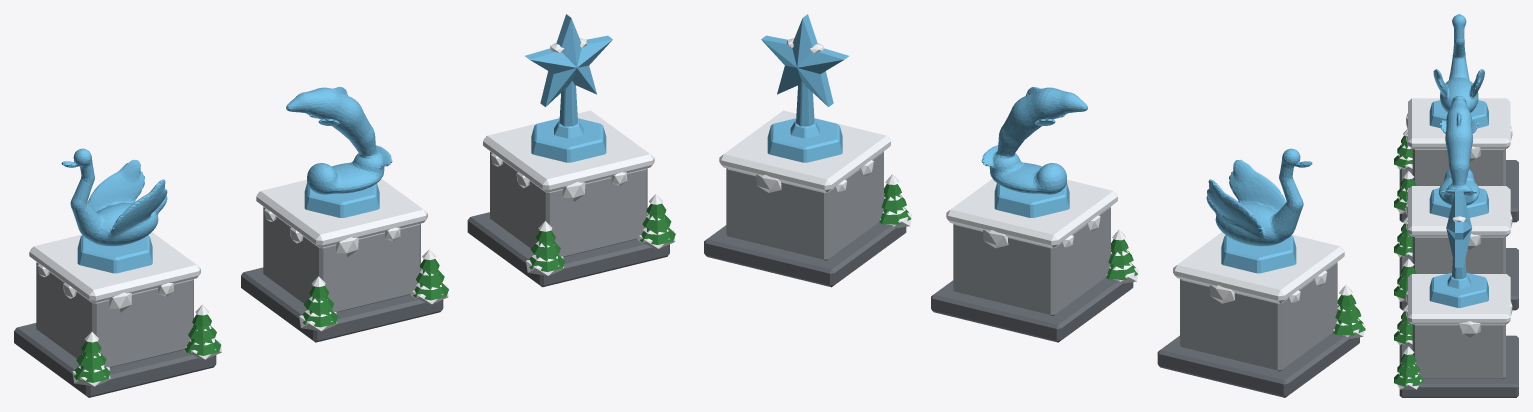
The model's file is ice-sculpture-set.glb.
3 views of the same model, side by side, from view 1: azimuth 30°, elevation 25°; view 2: azimuth 150°, elevation 25°; view 3: azimuth 270°, elevation 25° (orthographic). The views are drawn at different scales.
Visible parts, largest first — view 1: IceSculpture_Swan_PlinthBlock, IceSculpture_Dolphin_PlinthBlock, IceSculpture_Star_PlinthBlock, IceSculpture_Swan_Ice, IceSculpture_Star_SnowCap, IceSculpture_Dolphin_Ice, IceSculpture_Swan_SnowCap, IceSculpture_Dolphin_SnowCap, IceSculpture_Dolphin_PlinthBase, IceSculpture_Star_PlinthBase, IceSculpture_Swan_PlinthBase, IceSculpture_Star_Star (+13 smaller); view 2: IceSculpture_Star_PlinthBlock, IceSculpture_Dolphin_PlinthBlock, IceSculpture_Swan_PlinthBlock, IceSculpture_Swan_Ice, IceSculpture_Star_SnowCap, IceSculpture_Dolphin_Ice, IceSculpture_Swan_SnowCap, IceSculpture_Dolphin_SnowCap, IceSculpture_Swan_PlinthBase, IceSculpture_Dolphin_PlinthBase, IceSculpture_Star_PlinthBase, IceSculpture_Star_Star (+10 smaller); view 3: IceSculpture_Star_PlinthBlock, IceSculpture_Star_SnowCap, IceSculpture_Dolphin_SnowCap, IceSculpture_Swan_SnowCap, IceSculpture_Dolphin_Ice, IceSculpture_Dolphin_PlinthBlock, IceSculpture_Star_PlinthBase, IceSculpture_Swan_PlinthBlock, IceSculpture_Swan_Ice, IceSculpture_Star_IceBase, IceSculpture_Star_Star, IceSculpture_Star_Pines (+13 smaller).
Boxes of the visible parts, x1,y1,x2,y2 form: IceSculpture_Swan_PlinthBlock: [36, 262, 193, 367]; IceSculpture_Dolphin_PlinthBlock: [263, 207, 420, 312]; IceSculpture_Star_PlinthBlock: [490, 151, 647, 256]; IceSculpture_Swan_Ice: [61, 148, 167, 246]; IceSculpture_Star_SnowCap: [483, 110, 654, 192]; IceSculpture_Dolphin_Ice: [286, 86, 392, 194]; IceSculpture_Swan_SnowCap: [29, 232, 200, 303]; IceSculpture_Dolphin_SnowCap: [256, 179, 427, 247]; IceSculpture_Dolphin_PlinthBase: [241, 267, 443, 342]; IceSculpture_Star_PlinthBase: [467, 212, 669, 287]; IceSculpture_Swan_PlinthBase: [14, 323, 216, 397]; IceSculpture_Star_Star: [525, 14, 612, 106]; IceSculpture_Star_PlinthBlock: [726, 151, 883, 260]; IceSculpture_Dolphin_PlinthBlock: [953, 207, 1110, 315]; IceSculpture_Swan_PlinthBlock: [1180, 262, 1337, 371]; IceSculpture_Swan_Ice: [1206, 148, 1312, 246]; IceSculpture_Star_SnowCap: [719, 110, 890, 192]; IceSculpture_Dolphin_Ice: [981, 86, 1087, 194]; IceSculpture_Swan_SnowCap: [1173, 232, 1344, 303]; IceSculpture_Dolphin_SnowCap: [946, 179, 1117, 247]; IceSculpture_Swan_PlinthBase: [1157, 333, 1359, 397]; IceSculpture_Dolphin_PlinthBase: [931, 278, 1133, 342]; IceSculpture_Star_PlinthBase: [704, 222, 906, 287]; IceSculpture_Star_Star: [761, 14, 848, 106]; IceSculpture_Star_PlinthBlock: [1412, 324, 1505, 378]; IceSculpture_Star_SnowCap: [1408, 274, 1510, 324]; IceSculpture_Dolphin_SnowCap: [1408, 186, 1510, 236]; IceSculpture_Swan_SnowCap: [1408, 98, 1510, 148]; IceSculpture_Dolphin_Ice: [1439, 99, 1479, 205]; IceSculpture_Dolphin_PlinthBlock: [1412, 236, 1505, 273]; IceSculpture_Star_PlinthBase: [1399, 335, 1518, 397]; IceSculpture_Swan_PlinthBlock: [1412, 149, 1505, 185]; IceSculpture_Swan_Ice: [1433, 14, 1484, 112]; IceSculpture_Star_IceBase: [1429, 272, 1488, 307]; IceSculpture_Star_Star: [1446, 191, 1471, 267]; IceSculpture_Star_Pines: [1394, 311, 1424, 386].
Bounding box in the file's own units: 21.15 × 7.75 × 4.81.
